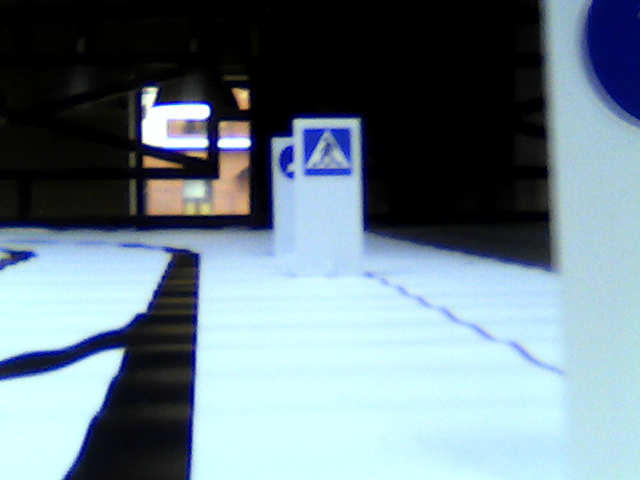pesh: (301, 127, 351, 174)
